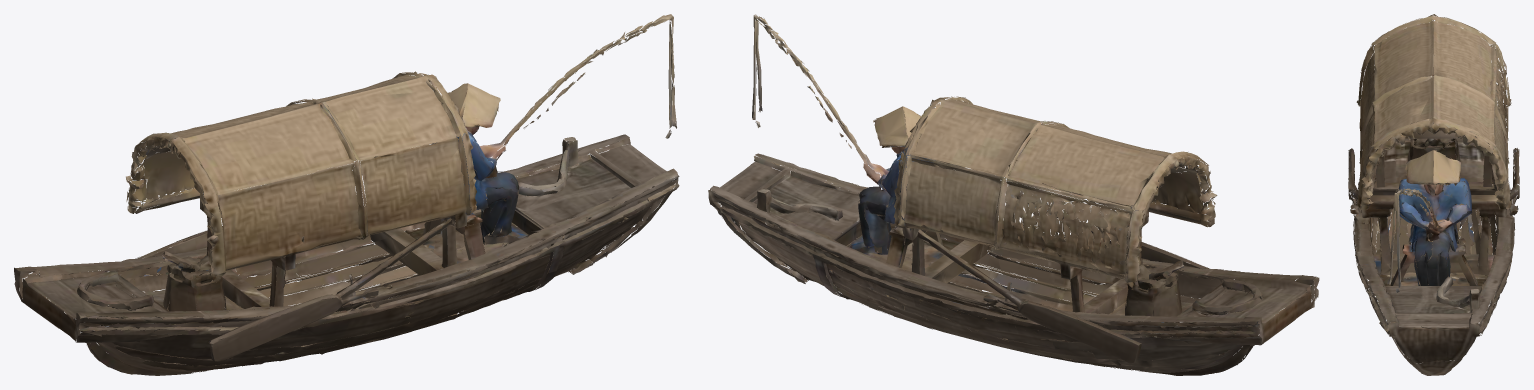
Rendered from boat.glb.
The picture shows the model from 3 angles, left to right: view 1: azimuth 30°, elevation 25°; view 2: azimuth 150°, elevation 25°; view 3: azimuth 270°, elevation 25°; orthographic projection. The views are drawn at different scales.
Visible parts, largest first — view 1: geometry_0; view 2: geometry_0; view 3: geometry_0.
Boxes of the visible parts, box(x1,y1,x2,y2) form: geometry_0: box(14, 14, 679, 375); geometry_0: box(708, 14, 1319, 375); geometry_0: box(1348, 14, 1519, 375).
Size of the model in its own units: 4.51 by 1.88 by 1.31.
Materials: 1 (1 with a texture image).
